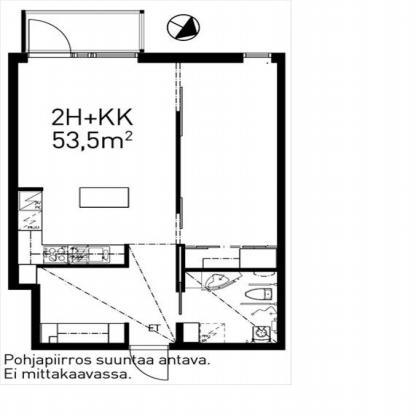door: (122, 341, 178, 384), (19, 18, 74, 61)
window: (70, 48, 146, 66), (235, 50, 278, 64)
